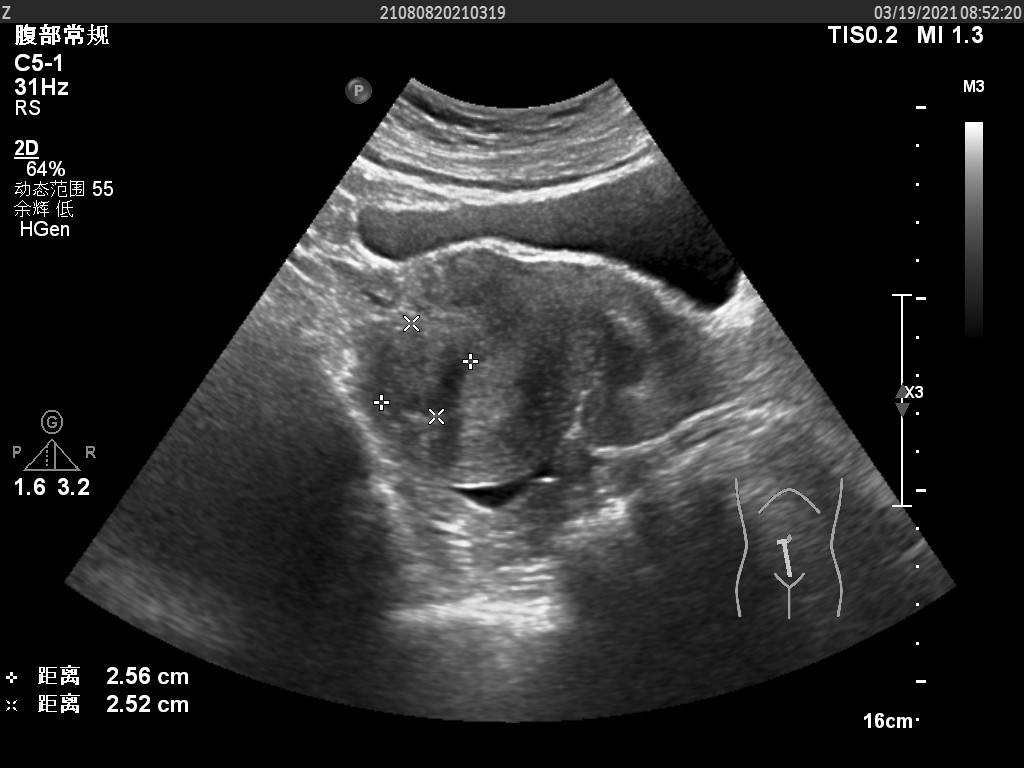肌瘤: (380, 331, 452, 409)
